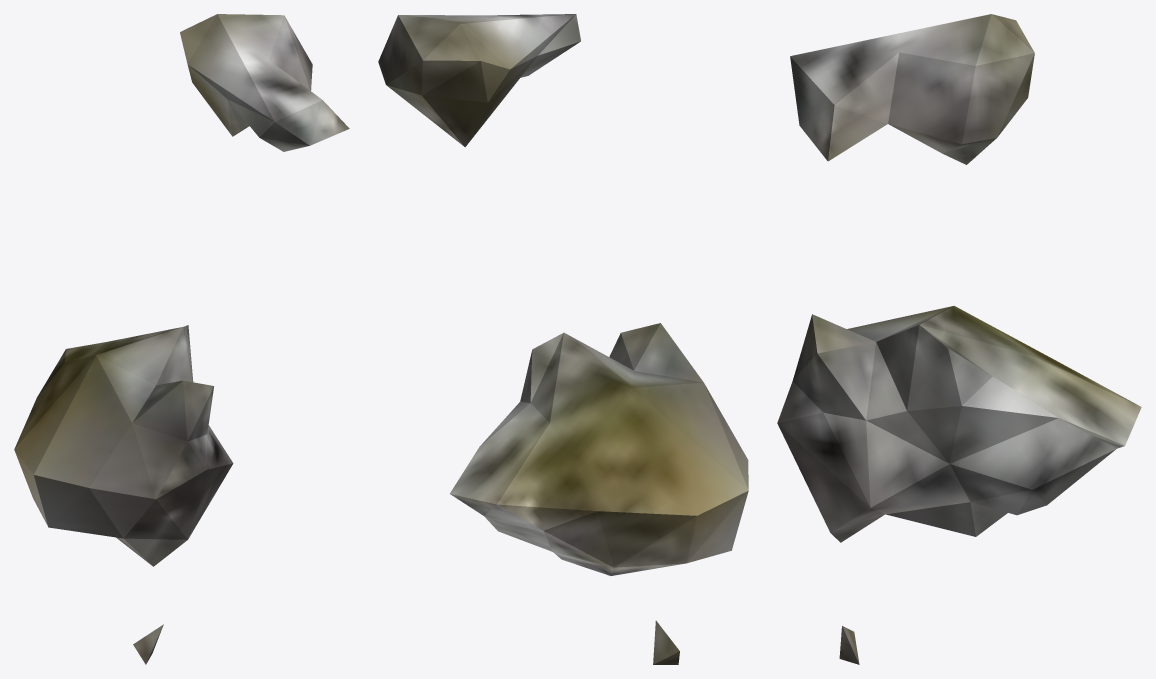
3 views of the same model, side by side, from view 1: azimuth 30°, elevation 25°; view 2: azimuth 150°, elevation 25°; view 3: azimuth 270°, elevation 25° (orthographic). The views are drawn at different scales.
Size of the model in its own units: 0.5321 by 0.9673 by 0.4402.
1 material, 1 textured.
